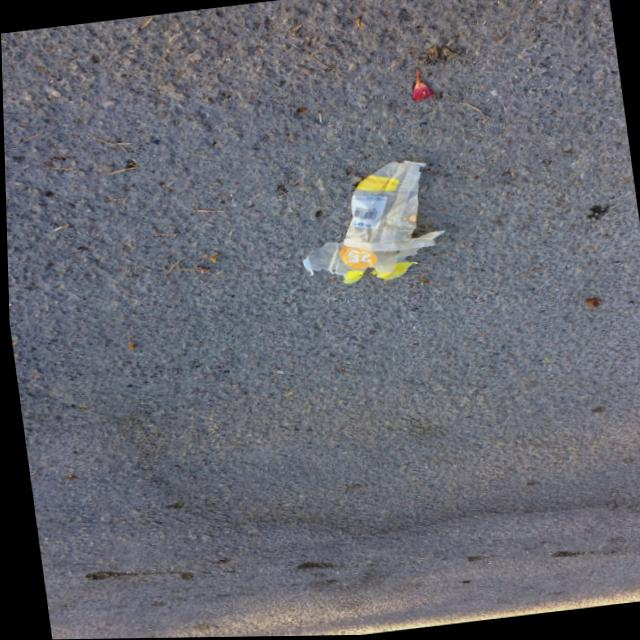Plastic: (287, 153, 453, 293)
